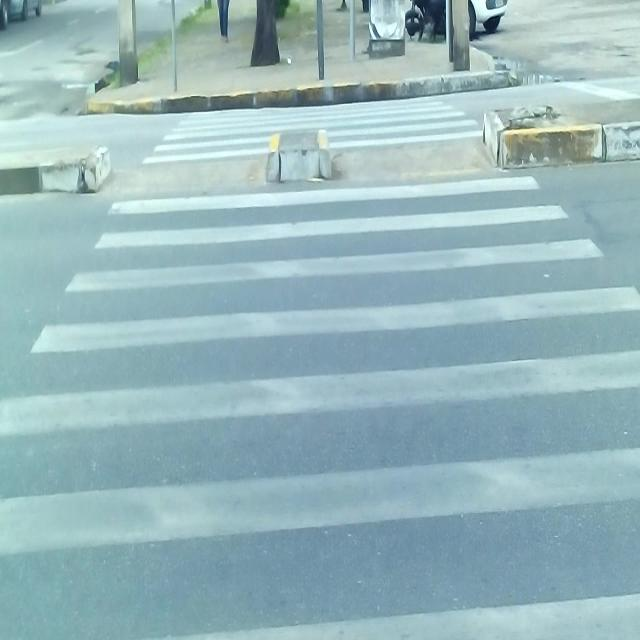crosswalk: (0, 94, 640, 640)
